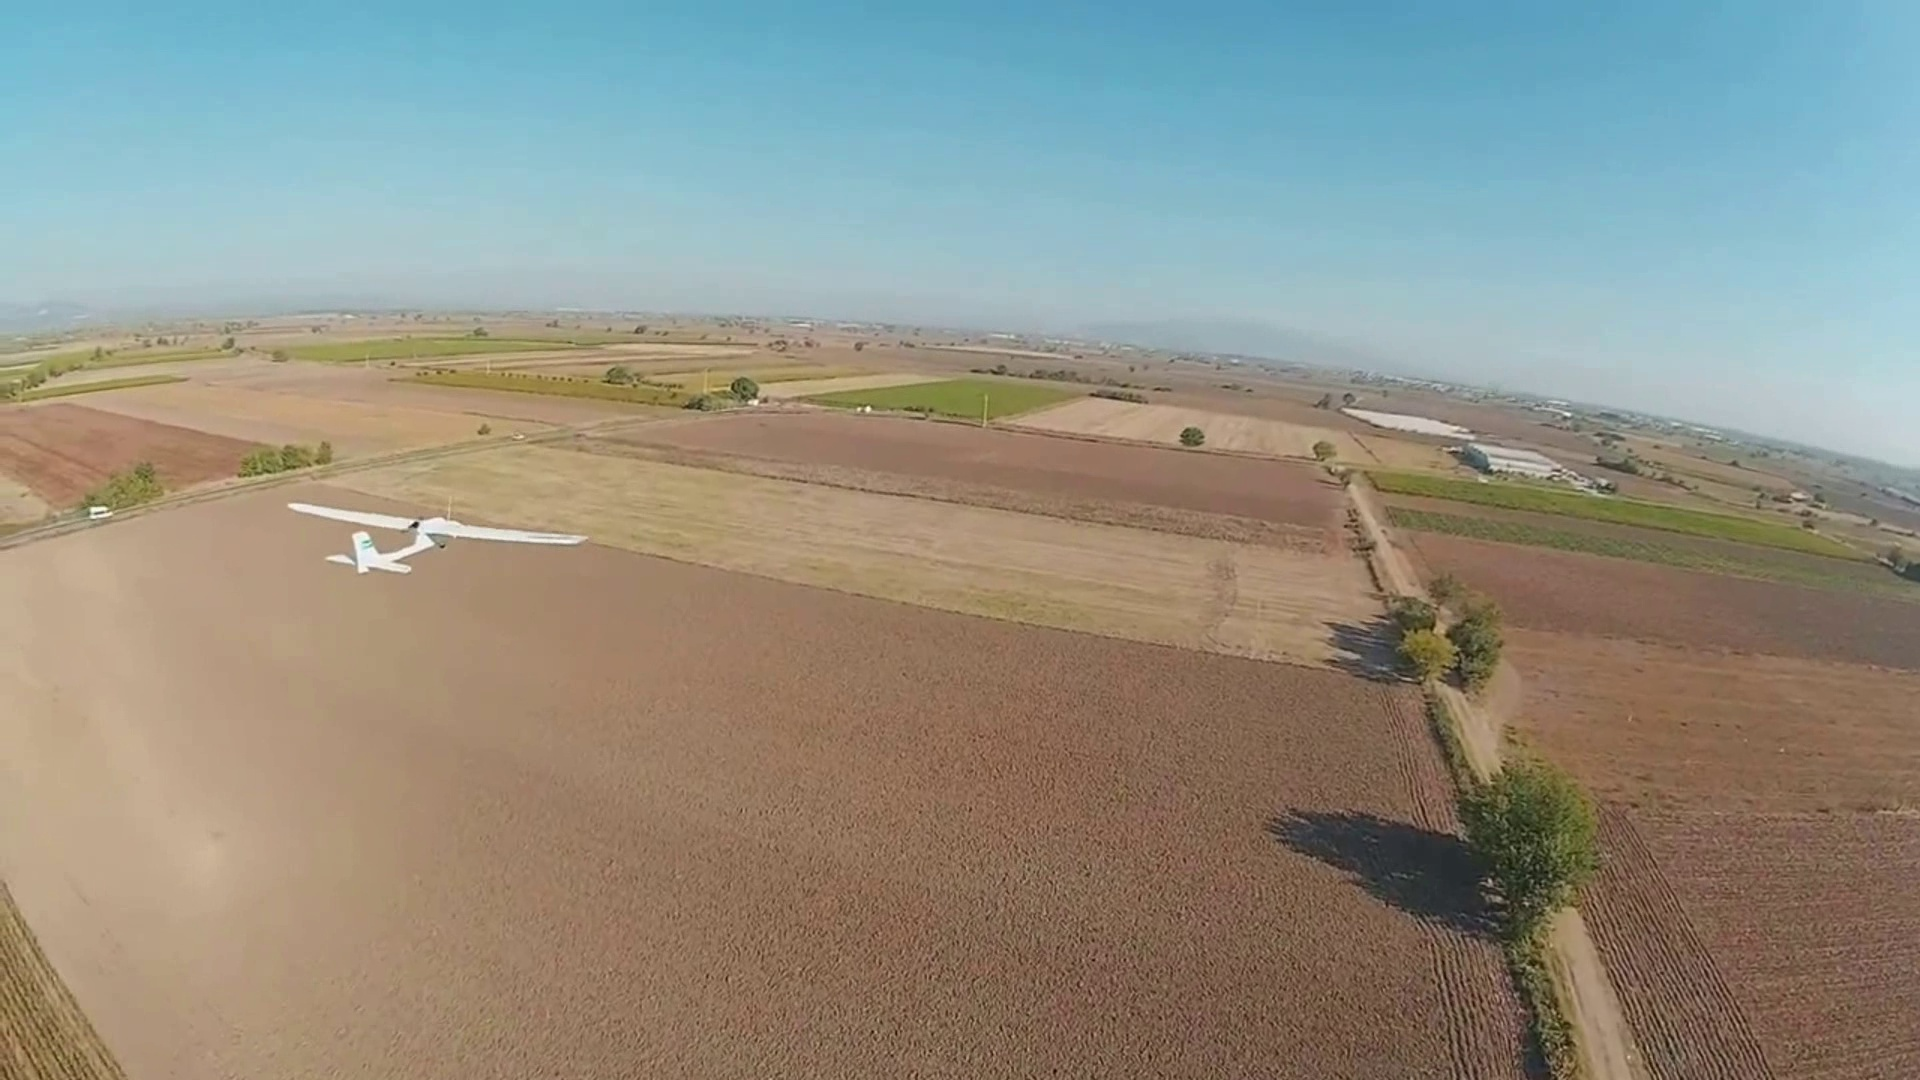airplane: (293, 508, 585, 572), (306, 512, 459, 578)
